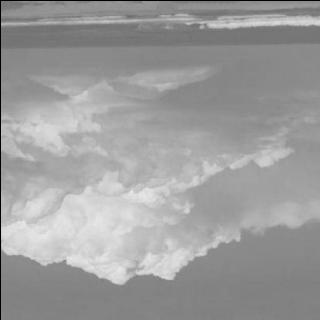Cumulonimbus: (0, 58, 320, 320)
